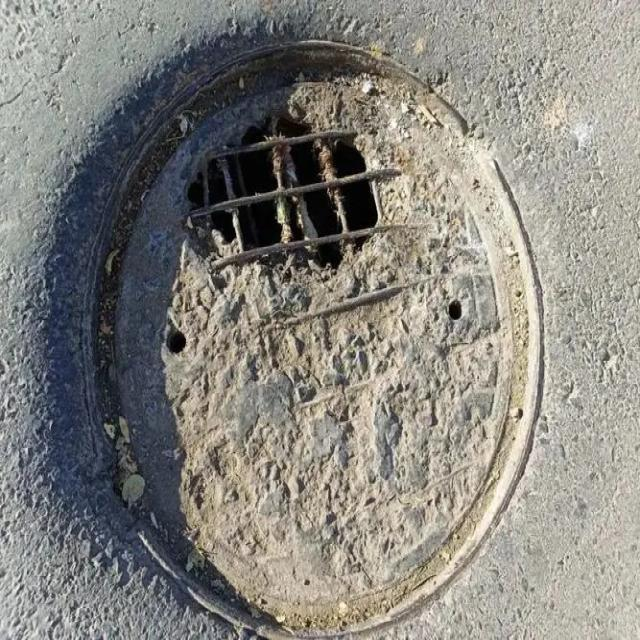manhole: (41, 35, 541, 640)
